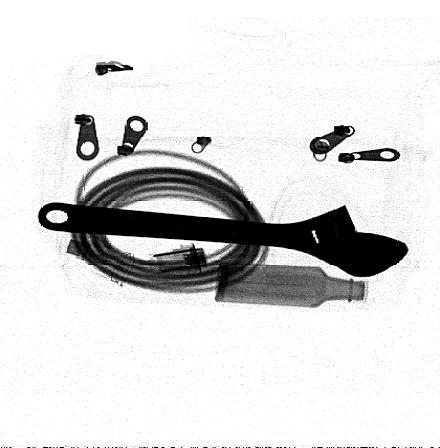Wrench: (46, 161, 390, 234)
